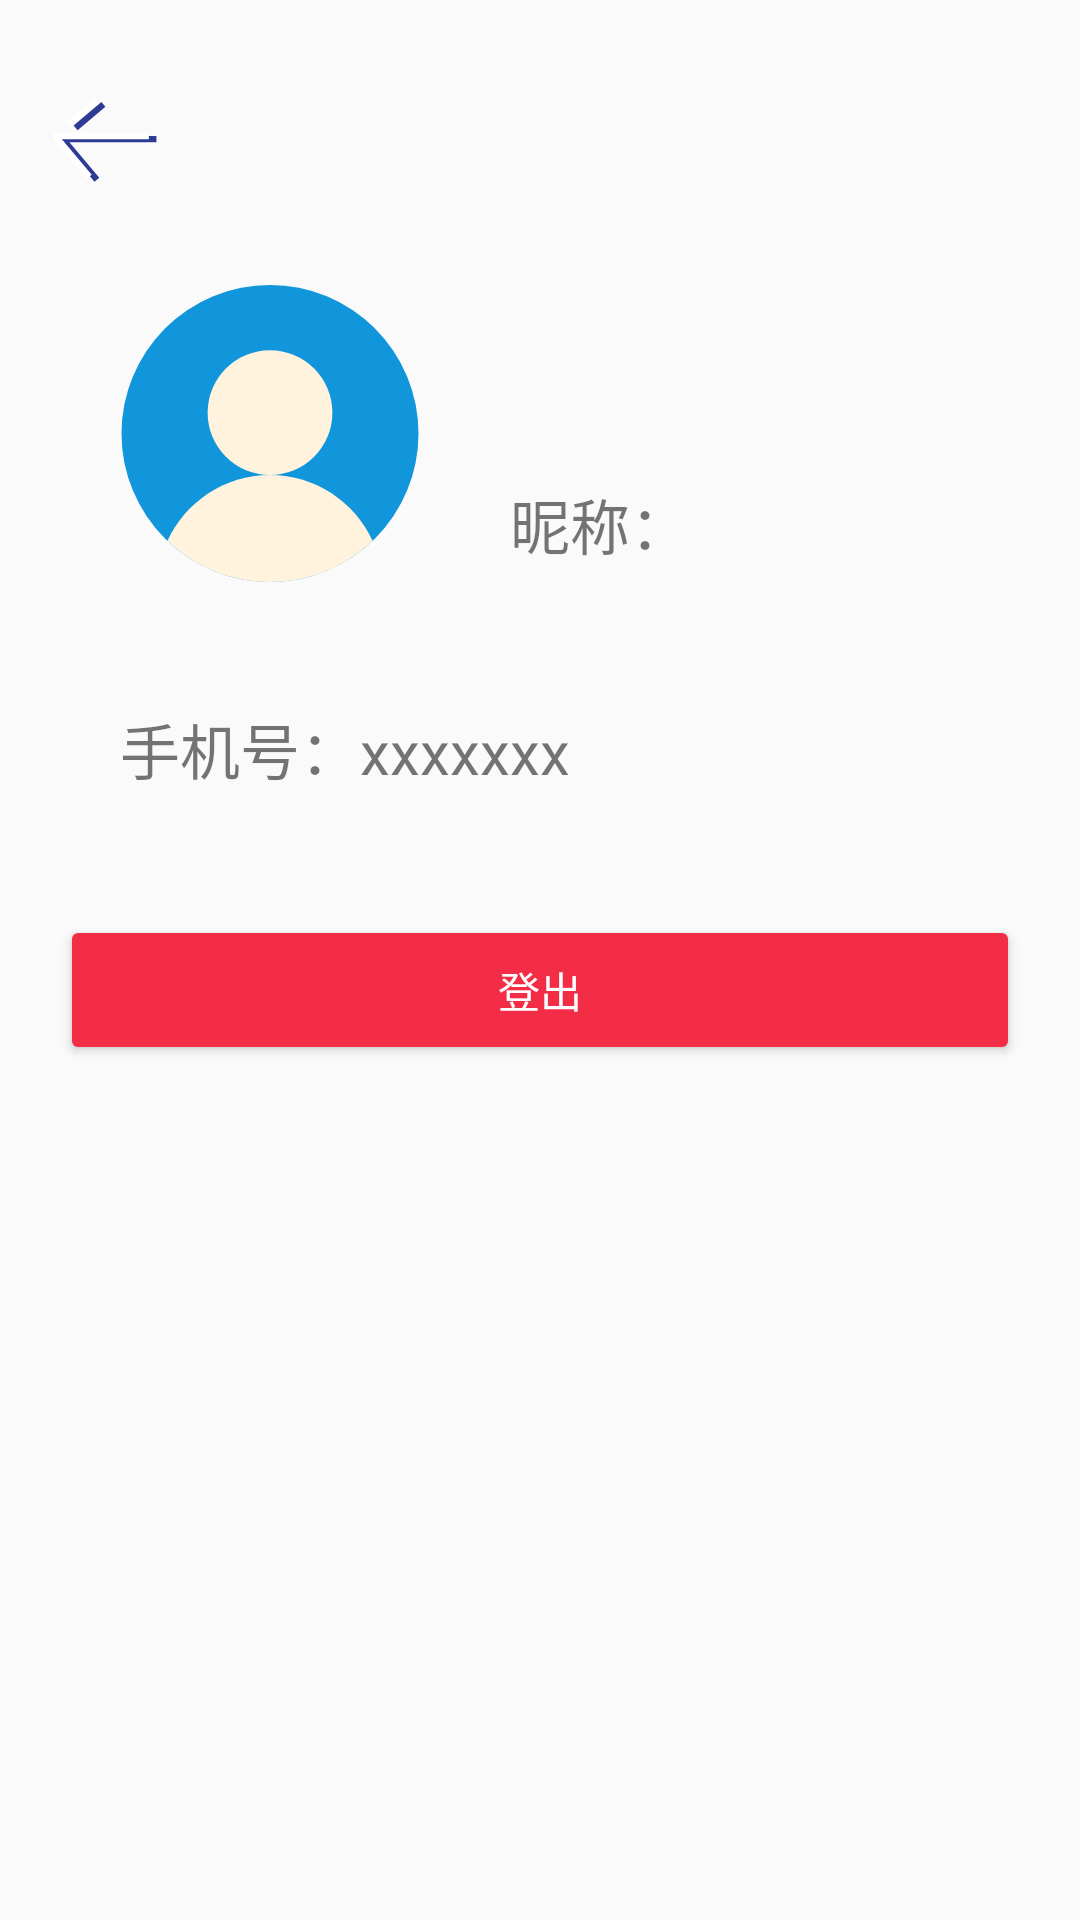

Point at icon controls on the screen. Image size 1080*1920, points as [x,y].
back: [109,142]
head: [270,433]
